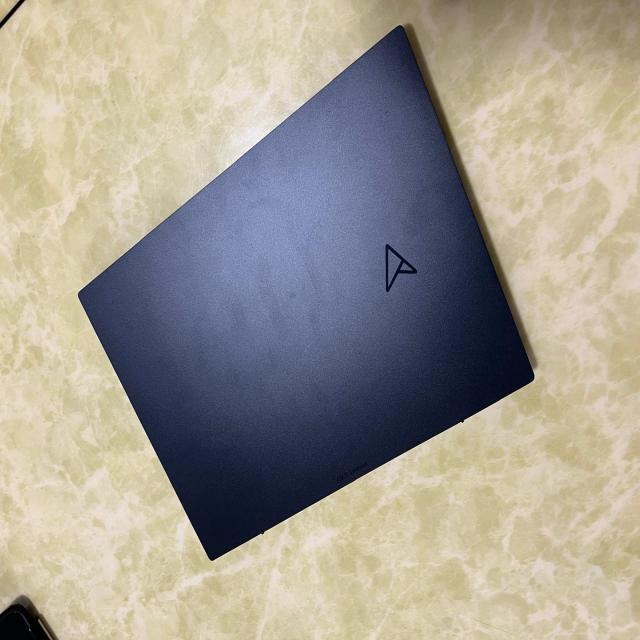laptop: (76, 23, 537, 560)
